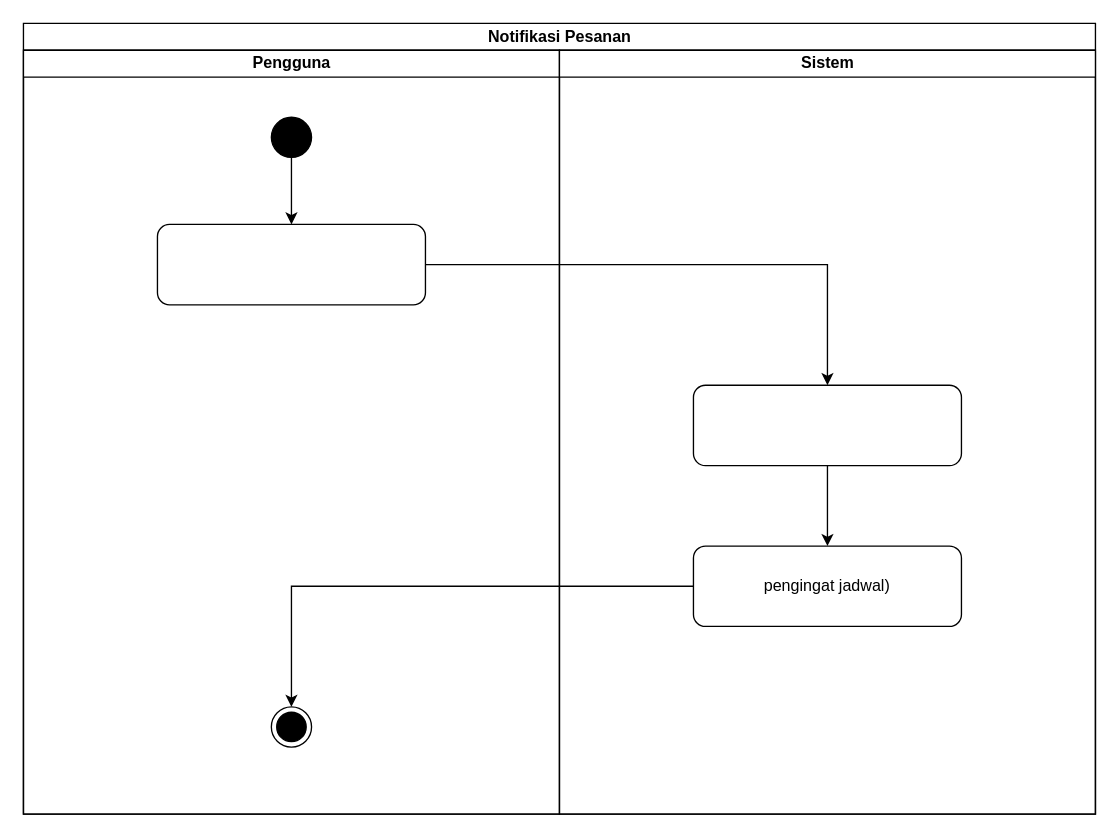
Some shapes in this 1119 by 838 pixel diagram are drawn without their labels. Here are the shapes that lost their labels. From the top down, the centre of each, then its label:
the point at 290,264: Membuka panel notifikasi
the point at 826,425: Menampilkan daftar notifikasi terbaru (konfirmasi pembayaran
